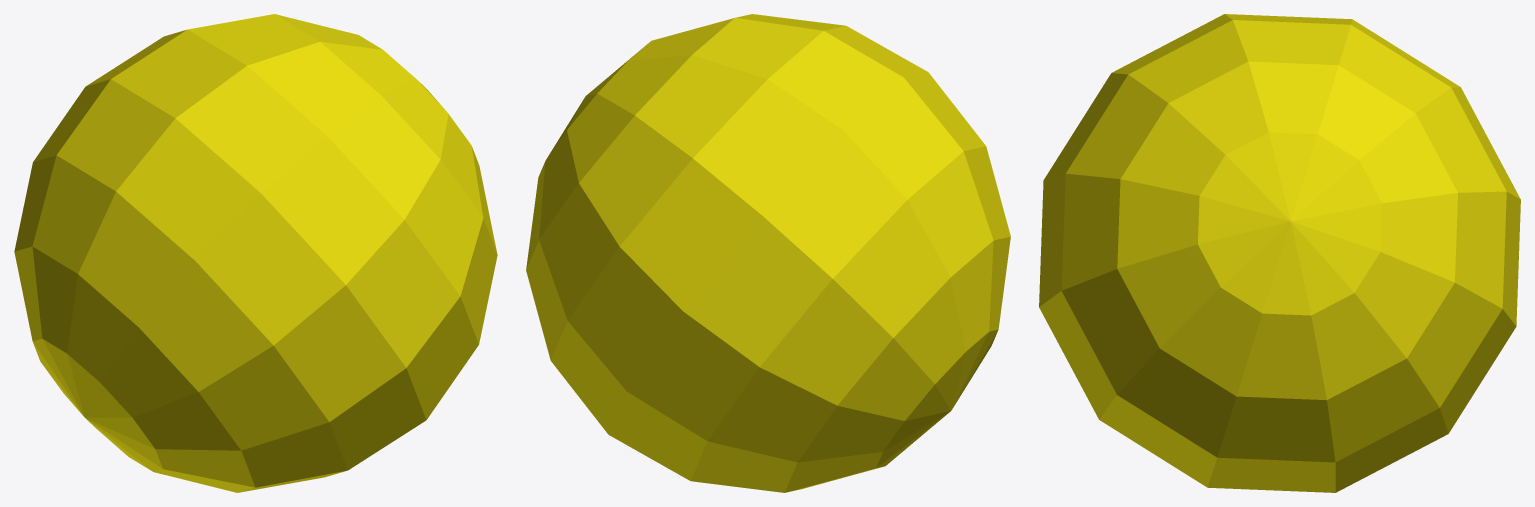
File: yellowBullet.fbx
The picture shows the model from 3 angles, left to right: view 1: azimuth 30°, elevation 25°; view 2: azimuth 150°, elevation 25°; view 3: azimuth 270°, elevation 25°; orthographic projection. The views are drawn at different scales.
Parts seen in each view (by area): view 1: polySurface762; view 2: polySurface762; view 3: polySurface762.
Boxes of the visible parts, bbox=[...] form: polySurface762: bbox=[14, 14, 497, 492]; polySurface762: bbox=[526, 14, 1010, 492]; polySurface762: bbox=[1039, 14, 1520, 492].
Bounding box in the file's own units: 0.1545 × 0.1529 × 0.1535.
